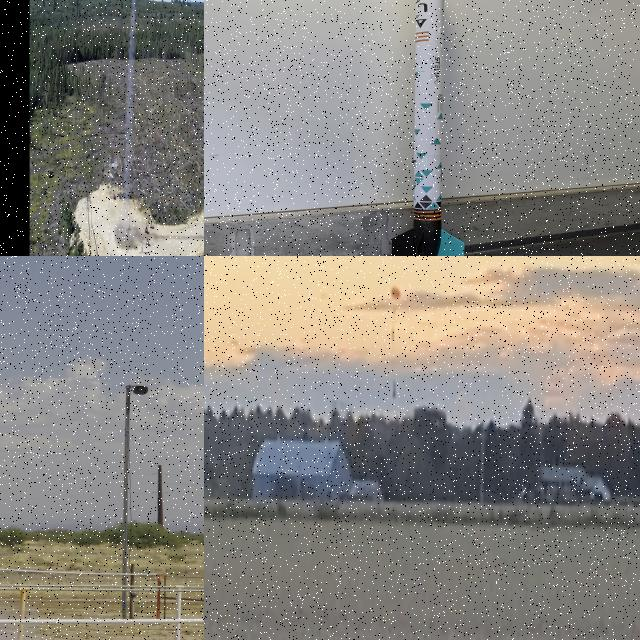Rocket: (392, 0, 465, 256), (392, 380, 397, 399)
